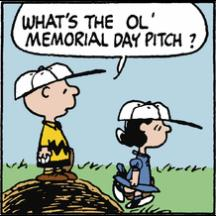charlie: (14, 61, 106, 183)
